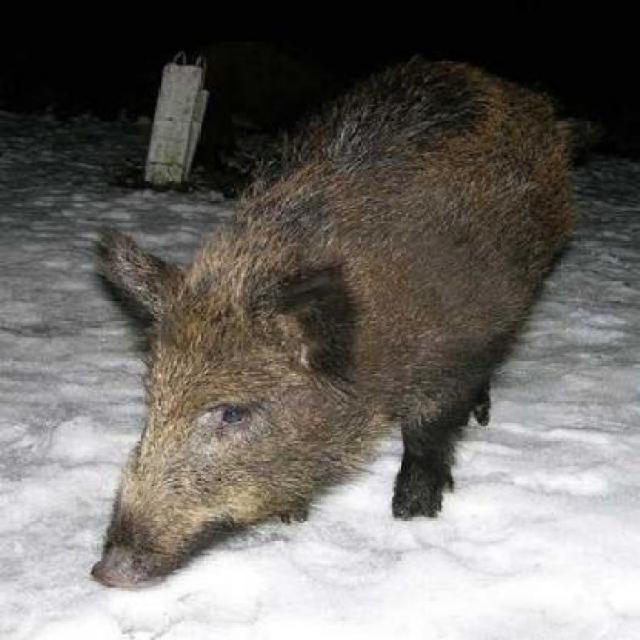pig: (52, 42, 627, 606)
